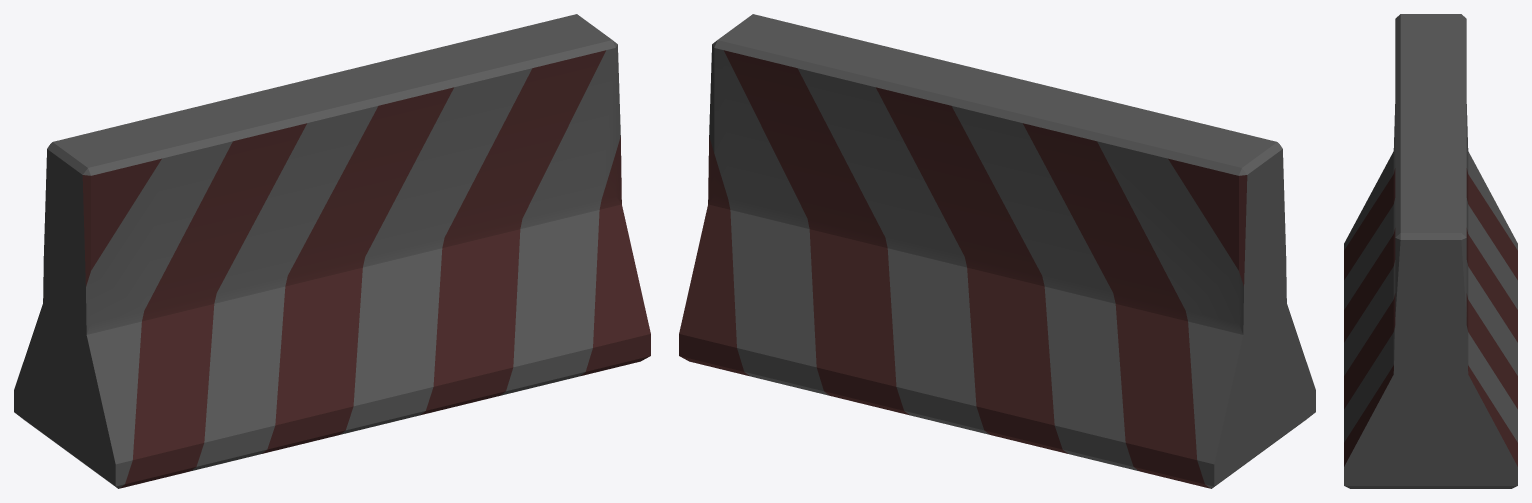
The model's file is props_58.glb.
The picture shows the model from 3 angles, left to right: view 1: azimuth 30°, elevation 25°; view 2: azimuth 150°, elevation 25°; view 3: azimuth 270°, elevation 25°; orthographic projection. The views are drawn at different scales.
Visible parts, largest first — view 1: props_58; view 2: props_58; view 3: props_58.
Boxes of the visible parts, left/top/right/bottom form: props_58: left=14, top=14, right=650, bottom=488; props_58: left=679, top=14, right=1315, bottom=488; props_58: left=1344, top=14, right=1517, bottom=488.
Bounding box in the file's own units: 2 × 1.07 × 0.6576.
Materials: 1 (1 with a texture image).
